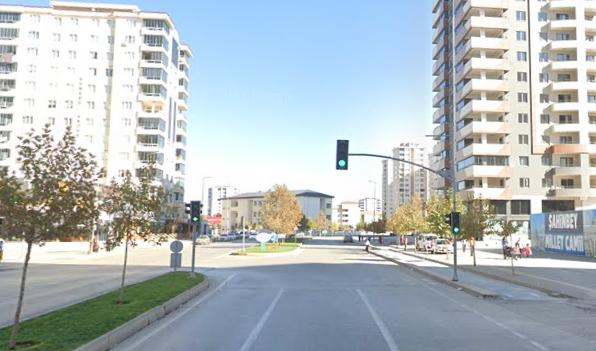greenlight: (334, 138, 351, 171), (190, 200, 202, 225), (450, 210, 462, 235)
